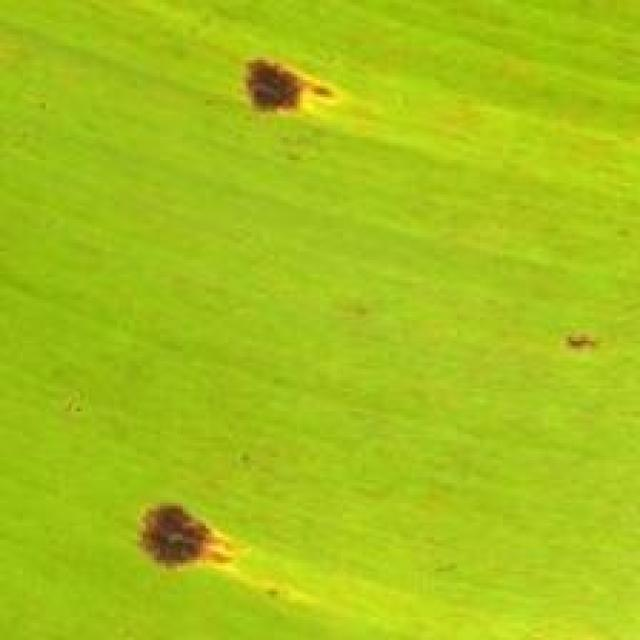Bacterial_spot: (215, 39, 372, 137), (106, 484, 244, 578), (540, 320, 610, 372)
